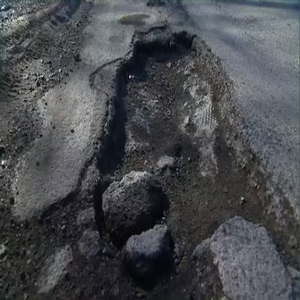pothole: (102, 30, 276, 299)
